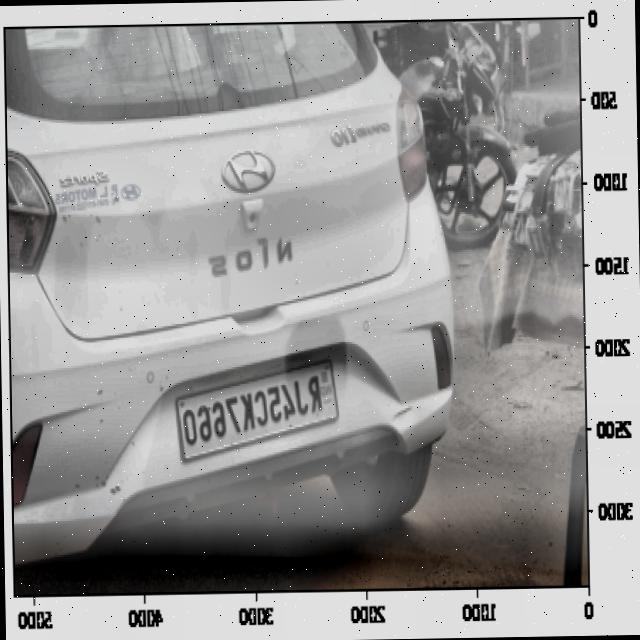license_plate: (177, 365, 326, 453)
